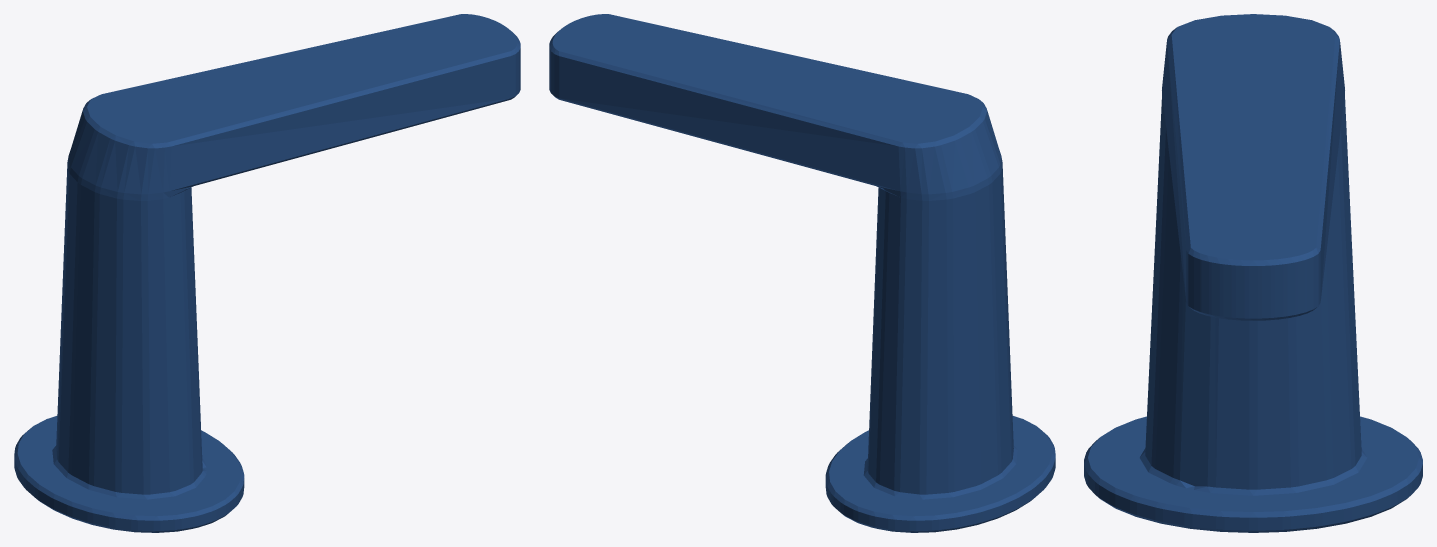
File: VIS_BaseLink.dae
The picture shows the model from 3 angles, left to right: view 1: azimuth 30°, elevation 25°; view 2: azimuth 150°, elevation 25°; view 3: azimuth 270°, elevation 25°; orthographic projection. The views are drawn at different scales.
Visible parts, largest first — view 1: VIS_BaseLink; view 2: VIS_BaseLink; view 3: VIS_BaseLink.
Boxes of the visible parts, x1,y1,x2,y2 form: VIS_BaseLink: [14, 14, 520, 532]; VIS_BaseLink: [549, 14, 1055, 532]; VIS_BaseLink: [1084, 14, 1422, 532].
Size of the model in its own units: 0.5113 by 0.2554 by 0.3717.
